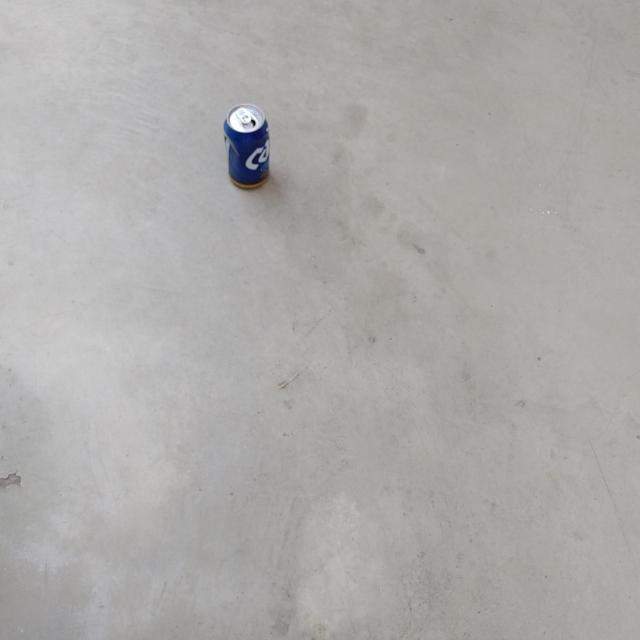can: (224, 103, 270, 188)
